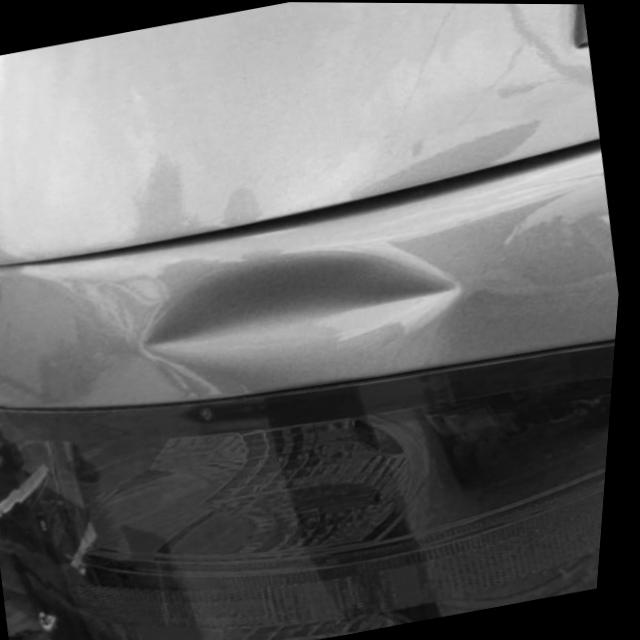Dent: (127, 233, 475, 392)
